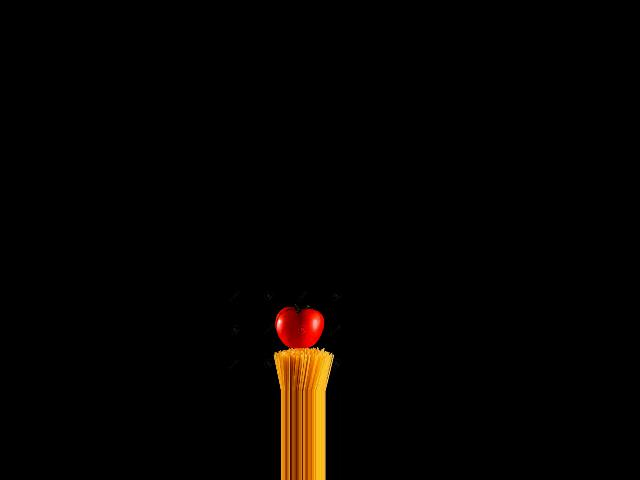tomato: (276, 306, 324, 348)
